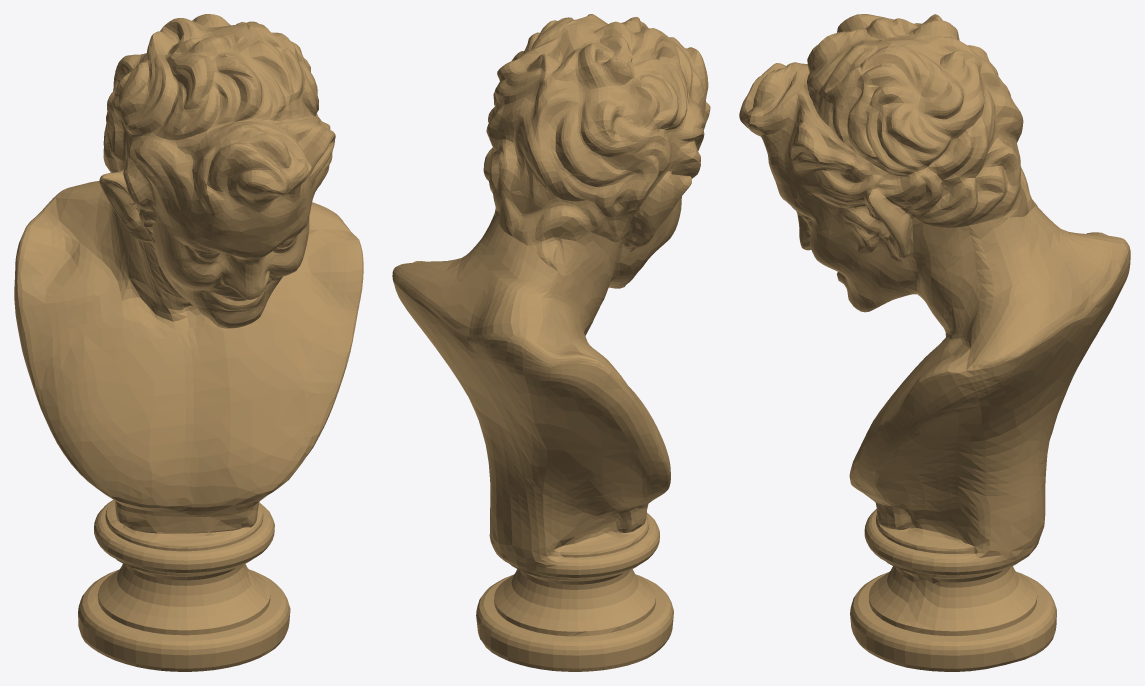
File: satyr.FBX
3 renders of one model, left to right at view 1: azimuth 30°, elevation 25°; view 2: azimuth 150°, elevation 25°; view 3: azimuth 270°, elevation 25°, orthographic. The views are drawn at different scales.
Parts seen in each view (by area): view 1: satiro; view 2: satiro; view 3: satiro.
Part boxes in pixels (bbox=[...]): satiro: bbox=[14, 14, 363, 671]; satiro: bbox=[392, 14, 710, 671]; satiro: bbox=[739, 14, 1130, 671].
Size of the model in its own units: 24.62 by 49.66 by 29.05.
